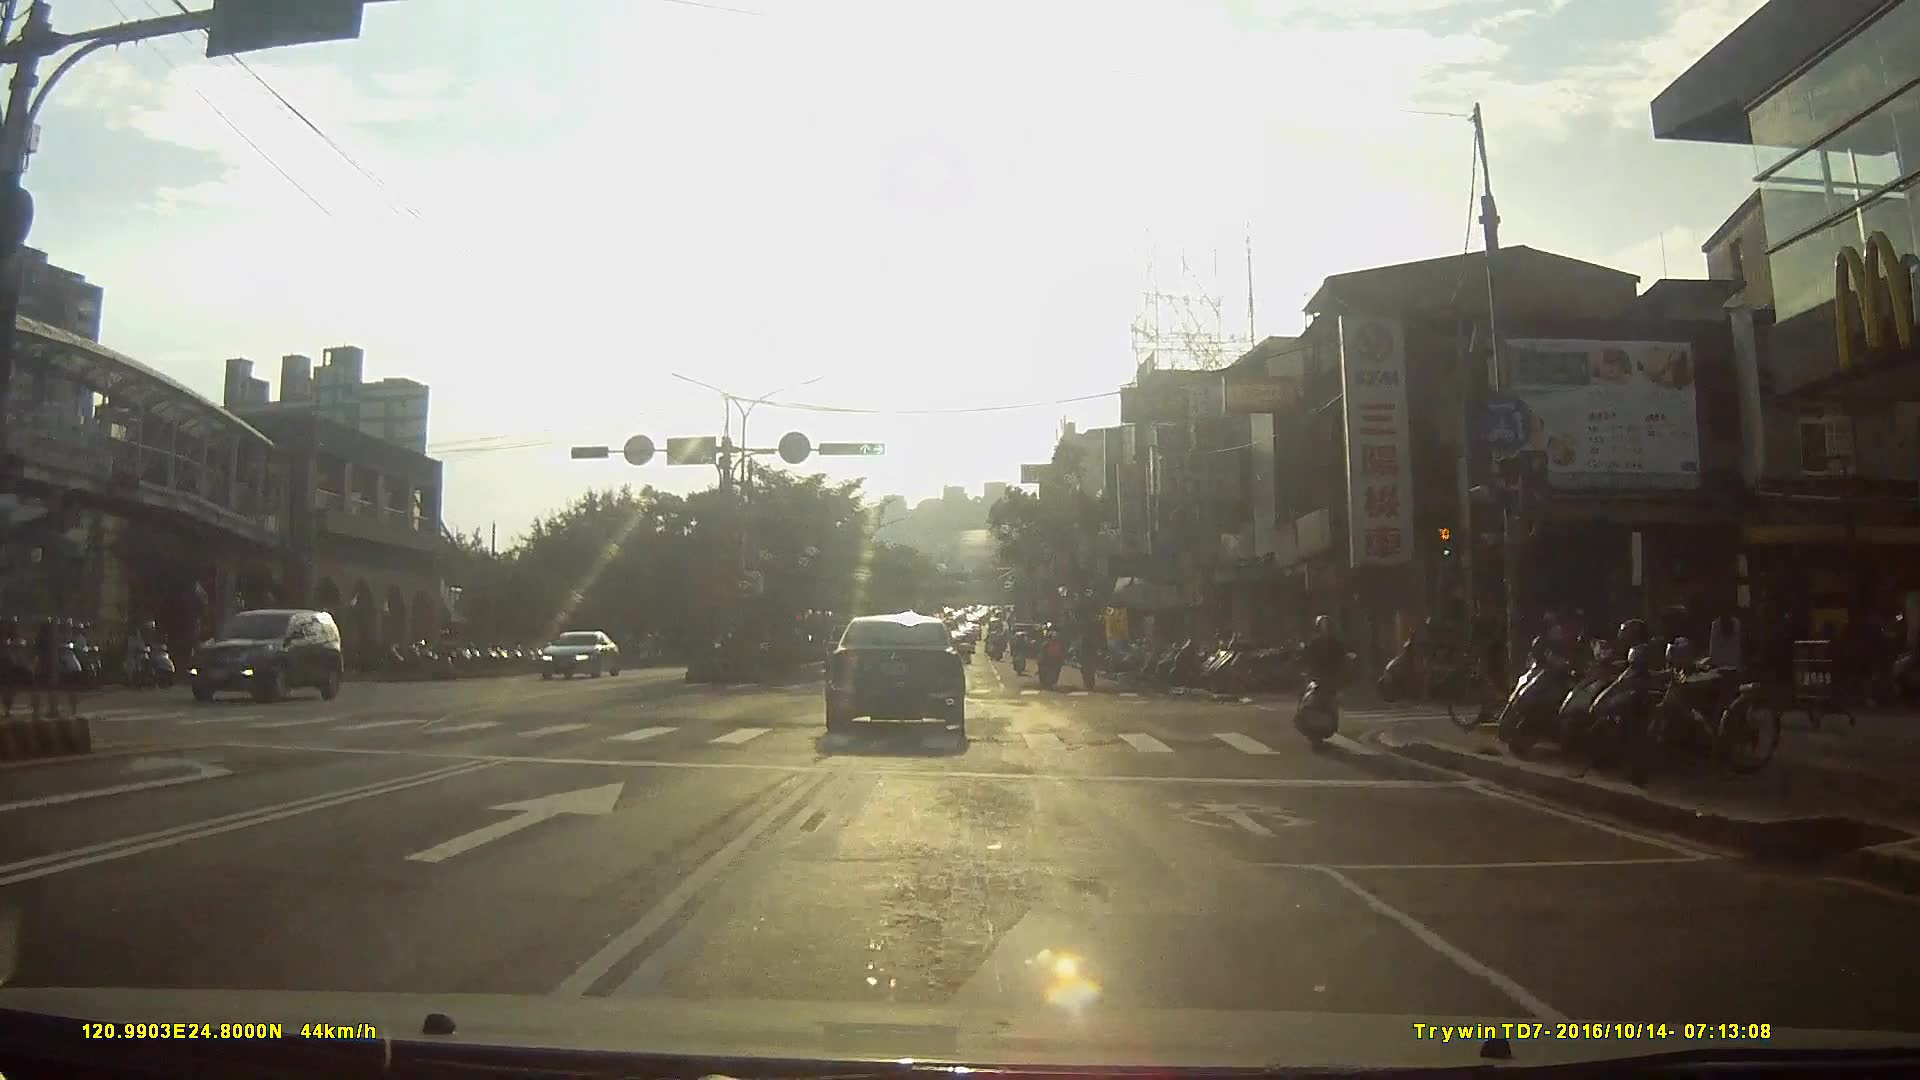pedestrian: (1706, 597, 1744, 704)
rider: (1438, 591, 1538, 732), (1294, 617, 1359, 749), (31, 618, 92, 691), (130, 617, 177, 692), (424, 627, 465, 682), (1038, 630, 1067, 693), (1009, 634, 1031, 679)
vehicle: (826, 609, 983, 749), (187, 607, 355, 707), (541, 632, 625, 682)
